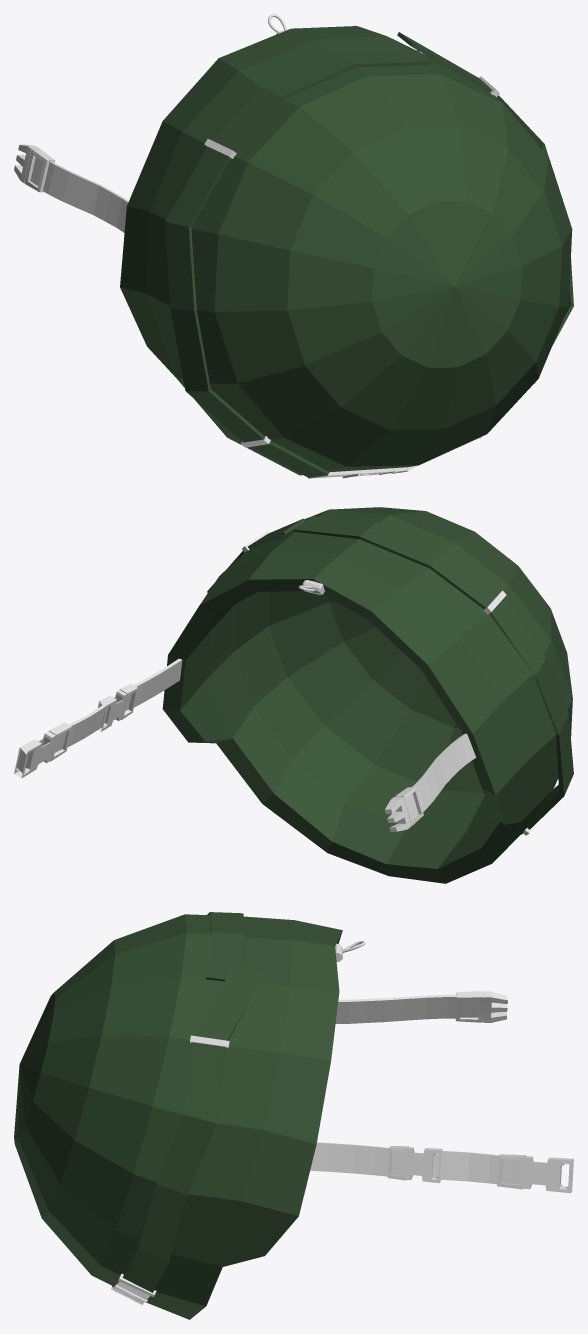
File: cap5_soliderCap.fbx
The picture shows the model from 3 angles, top to bottom: view 1: azimuth 30°, elevation 25°; view 2: azimuth 150°, elevation 25°; view 3: azimuth 270°, elevation 25°; orthographic projection. The views are drawn at different scales.
Visible parts, largest first — view 1: Sphere.008, Sphere.009, Plane.001, Cube.029, Cube.011; view 2: Sphere.008, Sphere.009, Plane.001, Cube.029; view 3: Sphere.008, Sphere.009, Plane.001, Cube.029, Cube.011.
Part boxes in pixels (left/top/right/bottom): Sphere.008: left=120, top=26, right=572, bottom=475; Sphere.009: left=165, top=32, right=573, bottom=478; Plane.001: left=30, top=157, right=128, bottom=232; Cube.029: left=14, top=25, right=356, bottom=192; Cube.011: left=204, top=76, right=537, bottom=478; Sphere.008: left=162, top=507, right=572, bottom=883; Sphere.009: left=207, top=516, right=573, bottom=834; Plane.001: left=55, top=658, right=476, bottom=818; Cube.029: left=14, top=684, right=423, bottom=831; Sphere.008: left=14, top=914, right=342, bottom=1319; Sphere.009: left=112, top=912, right=265, bottom=1304; Plane.001: left=310, top=994, right=520, bottom=1184; Cube.029: left=387, top=991, right=573, bottom=1193; Cube.011: left=111, top=1035, right=229, bottom=1305.
Size of the model in its own units: 73.18 by 70.25 by 97.
